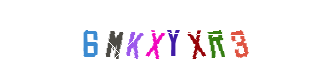3: (193, 0, 273, 80)
6: (79, 0, 159, 80)
K: (115, 0, 195, 80)
M: (96, 0, 176, 80)
R: (156, 0, 236, 80)
X: (116, 0, 196, 80), (125, 0, 205, 80)
Y: (122, 0, 202, 80)
